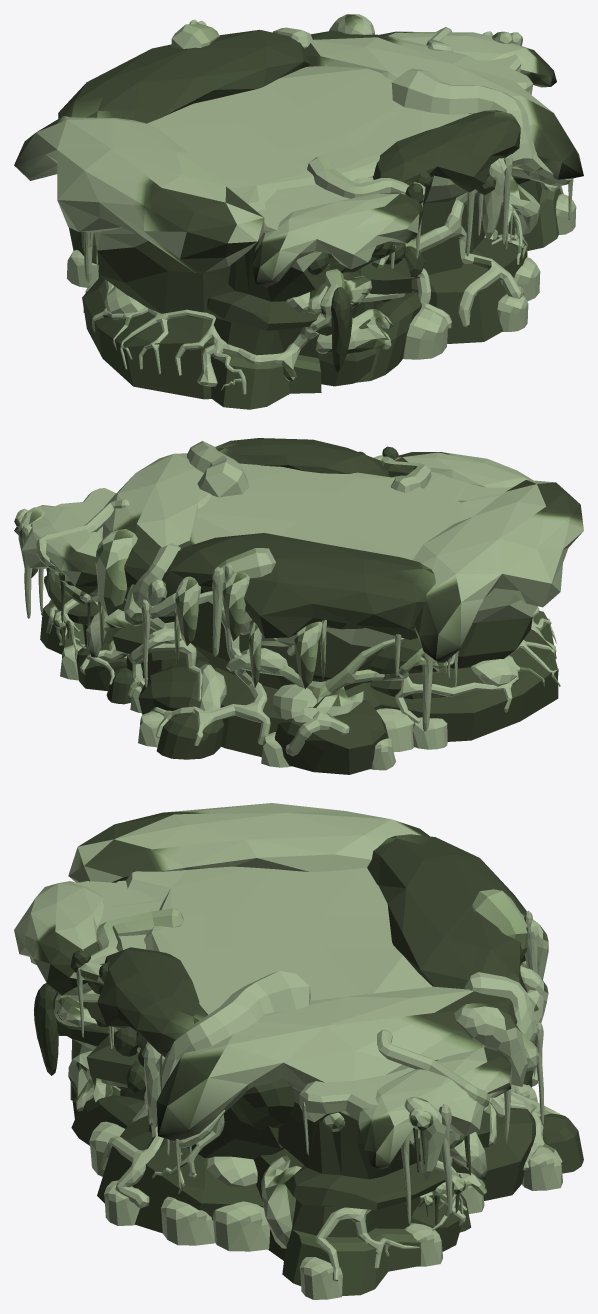
The model's file is EA_Swamp_Island_Small_05a_alt.glb.
3 renders of one model, top to bottom at view 1: azimuth 30°, elevation 25°; view 2: azimuth 150°, elevation 25°; view 3: azimuth 270°, elevation 25°, orthographic. The views are drawn at different scales.
Parts seen in each view (by area): view 1: EA_Swamp_Island_Small_05a_alt; view 2: EA_Swamp_Island_Small_05a_alt; view 3: EA_Swamp_Island_Small_05a_alt.
Boxes of the visible parts, x1,y1,x2,y2 form: EA_Swamp_Island_Small_05a_alt: [14, 14, 583, 409]; EA_Swamp_Island_Small_05a_alt: [14, 438, 583, 774]; EA_Swamp_Island_Small_05a_alt: [14, 803, 583, 1299].
Size of the model in its own units: 17.86 by 6.82 by 14.53.
1 material, 1 textured.
